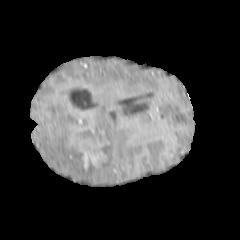glioma: (40, 107, 128, 181)
